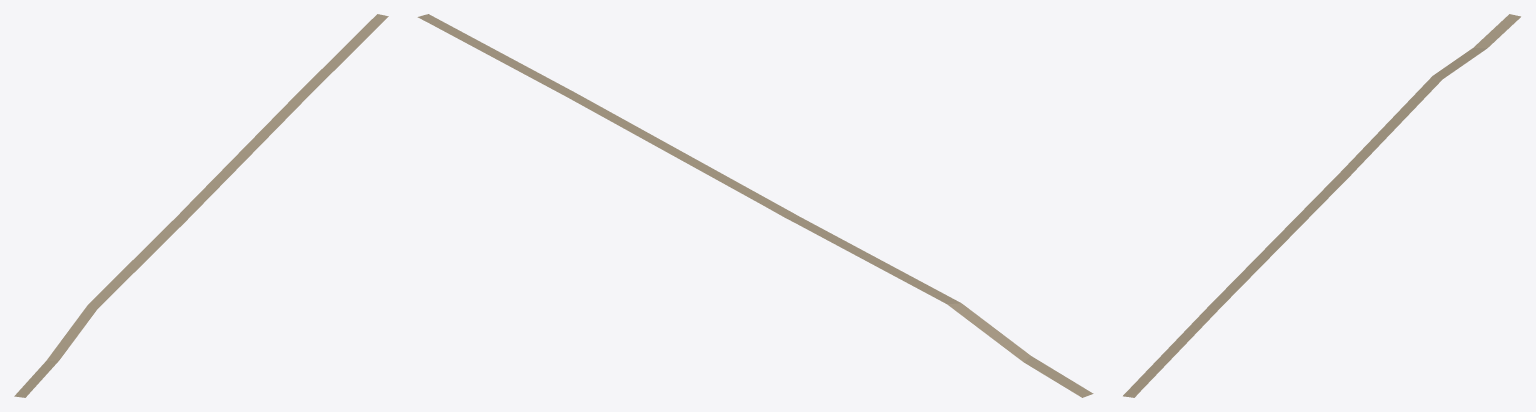
File: farm_12_5_track.glb
The picture shows the model from 3 angles, left to right: view 1: azimuth 90°, elevation 25°; view 2: azimuth 150°, elevation 25°; view 3: azimuth 270°, elevation 25°; orthographic projection. The views are drawn at different scales.
Parts seen in each view (by area): view 1: geometry_0; view 2: geometry_0; view 3: geometry_0.
Part boxes in pixels (bbox=[...]): geometry_0: bbox=[14, 14, 388, 397]; geometry_0: bbox=[417, 14, 1093, 397]; geometry_0: bbox=[1123, 14, 1520, 397].
Bounding box in the file's own units: 234 × 4.85 × 99.74.
